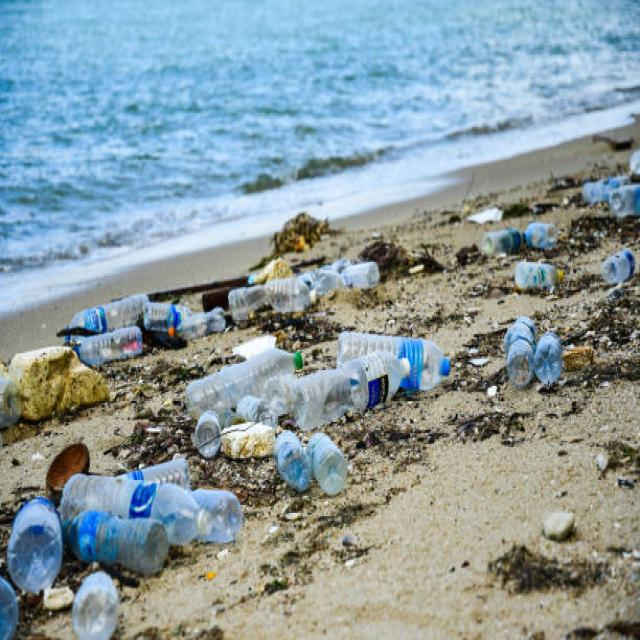normal_waste: (66, 468, 232, 548), (180, 341, 316, 424), (286, 344, 424, 422), (60, 474, 212, 544), (222, 422, 356, 500), (336, 326, 461, 392), (187, 348, 302, 419), (6, 500, 76, 612), (72, 496, 170, 572), (504, 312, 571, 410), (338, 332, 449, 390), (262, 355, 344, 433), (66, 286, 144, 338), (119, 458, 199, 501), (64, 574, 130, 626), (67, 294, 148, 333), (154, 300, 246, 328), (307, 433, 346, 493), (510, 253, 558, 299), (222, 289, 326, 310), (304, 264, 384, 290), (518, 217, 568, 254), (190, 412, 220, 469), (80, 334, 138, 362), (599, 250, 640, 289), (533, 332, 562, 384), (515, 261, 563, 289), (478, 228, 525, 252), (614, 184, 640, 222), (586, 180, 622, 206)
